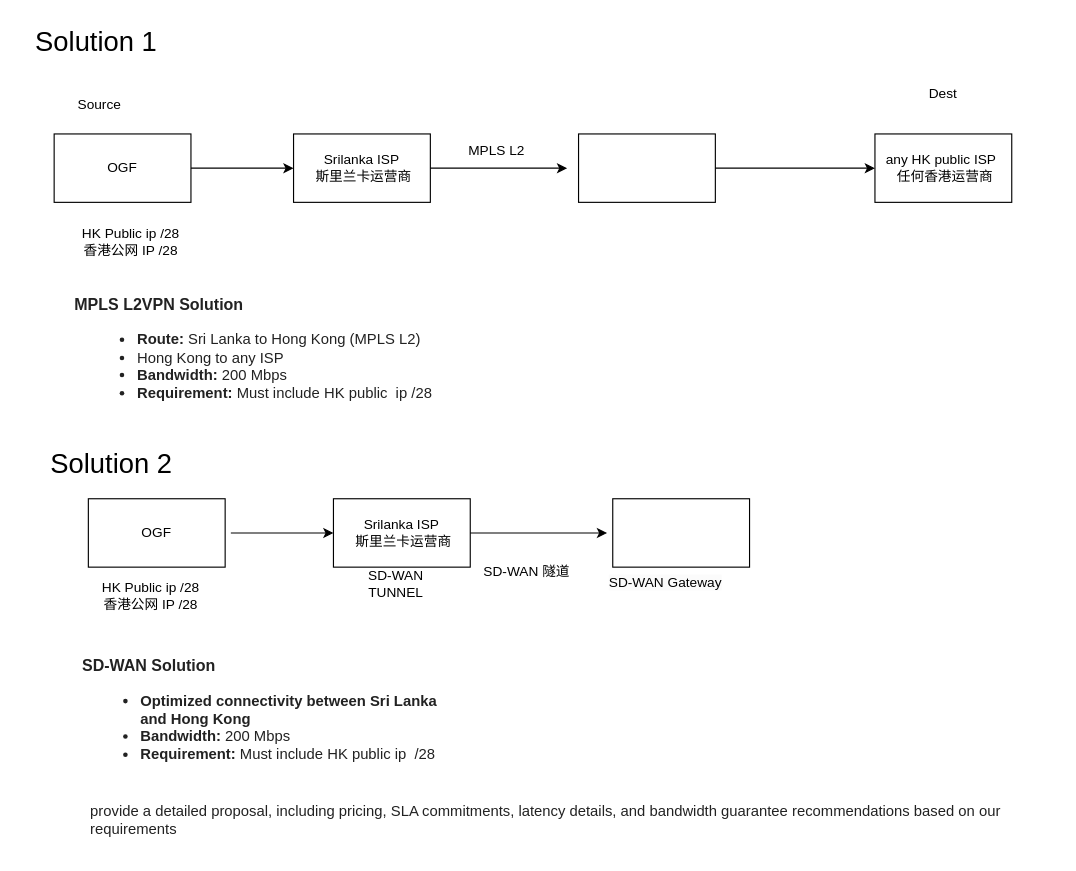
The diagram is 1076 pixels wide and 871 high, and some of its shapes have lost their labels. Each missing label, with the centre of its shape:
any HK ISP 任何香港运营商: the point at 681,532
HK POP 香港 pop: the point at 646,167
